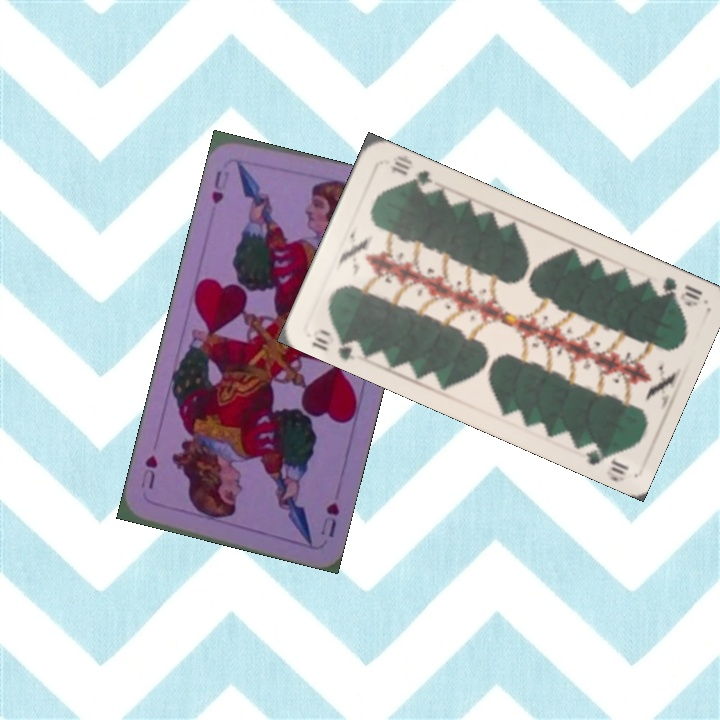G10: (308, 324, 365, 363), (658, 272, 705, 309)
HU: (316, 498, 342, 540), (208, 166, 232, 207)
